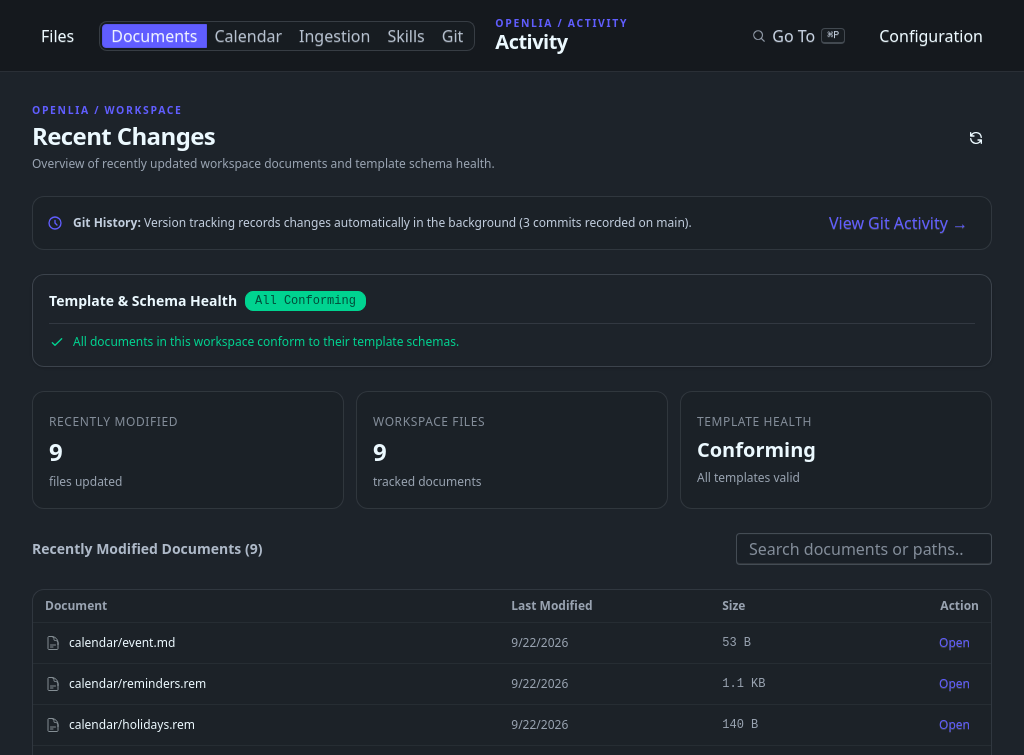
Test case: workspace application › renders the file changes Activity section on initial page and allows opening files
The image size is (1024, 755).
expect the heading "Recent Changes" is shown: met, box [32,120,215,152]
expect the text "Recently Modified Documents (9)" is shown: met, box [32,540,262,560]
Click the button "Open" in the row of "calendar/event.md" at (955, 644), box [930,632,979,656]
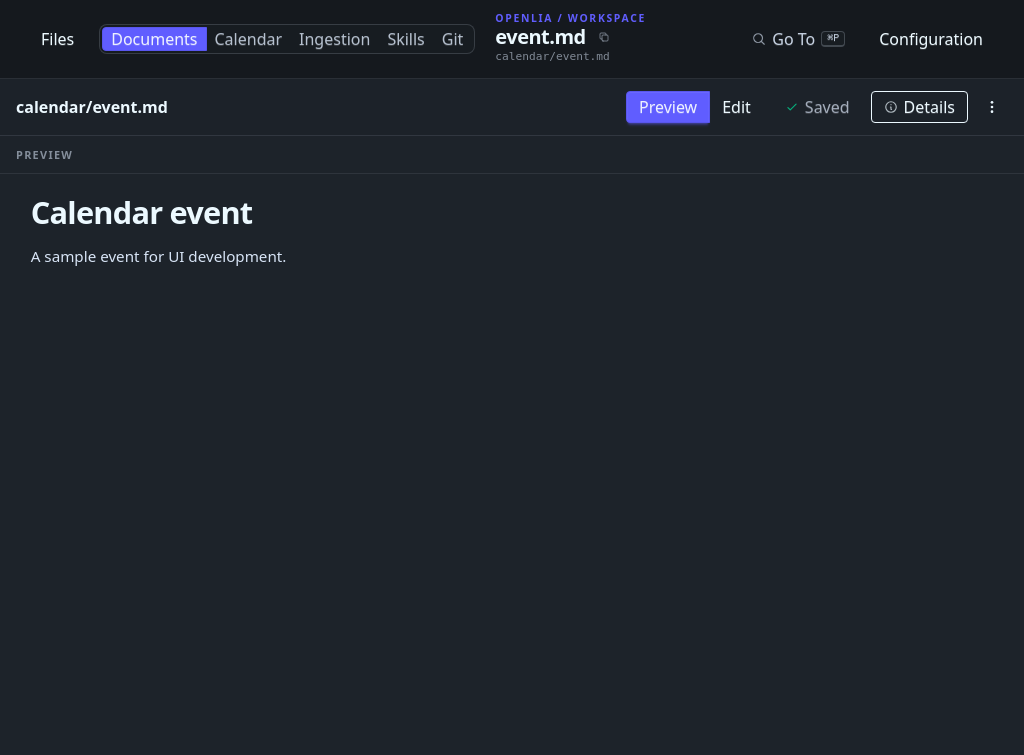
expect the element named "Markdown preview" is shown: met, box [31,191,286,266]
Click the button "Documents" at (154, 39), box [102,27,207,51]
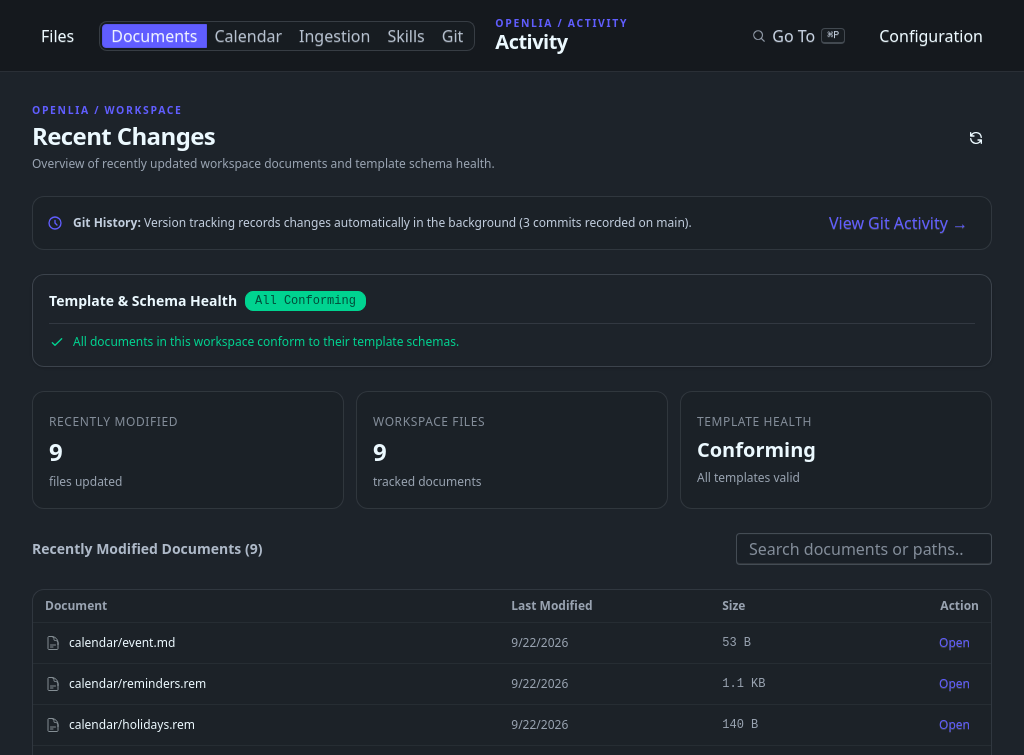
expect the heading "Recent Changes" is shown: met, box [32,120,215,152]
expect the buttons read "Documents", "Calendar", "Ingestion", "Skills", "Git", in this order: met
Click the button "Skills" at (406, 36), box [378,24,434,48]
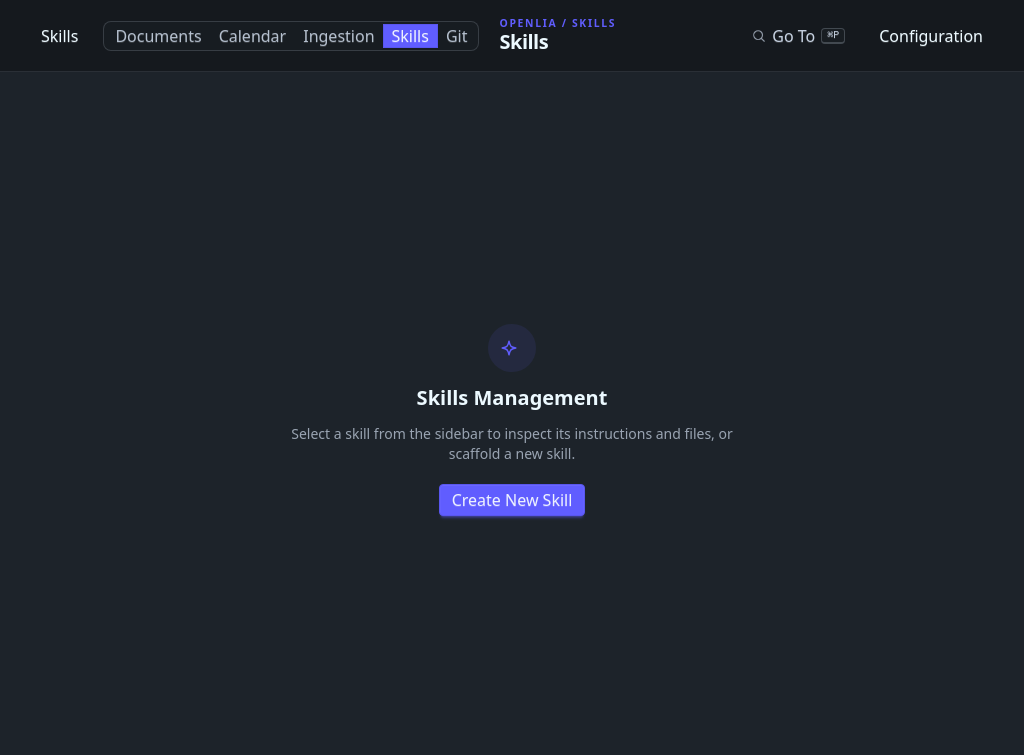
Click the button "Documents" at (159, 36), box [106,24,211,48]
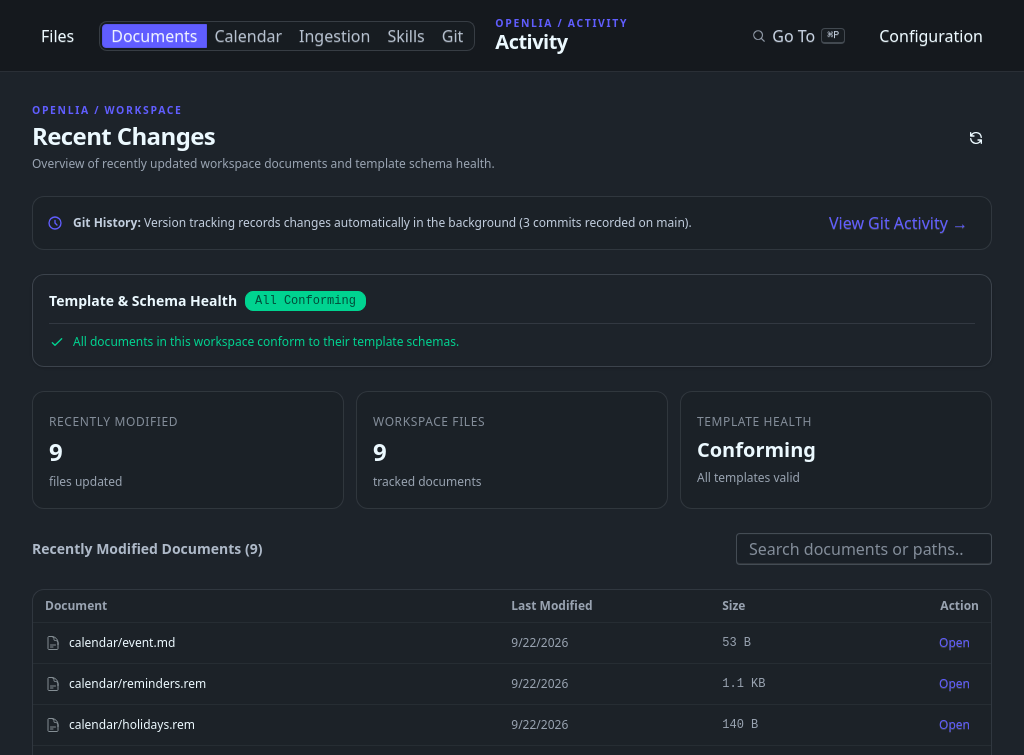
expect the heading "Recent Changes" is shown: met, box [32,120,215,152]
Click the button "Configuration" at (931, 36), box [866,20,996,52]
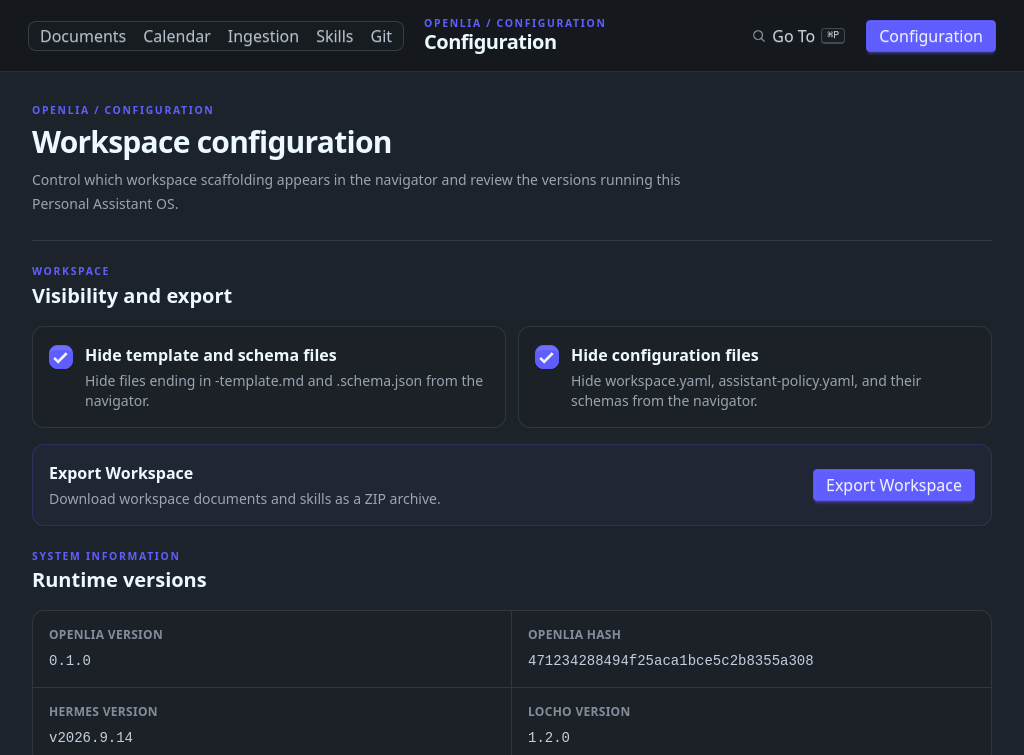
Click the button "Documents" at (83, 36), box [31,24,135,48]
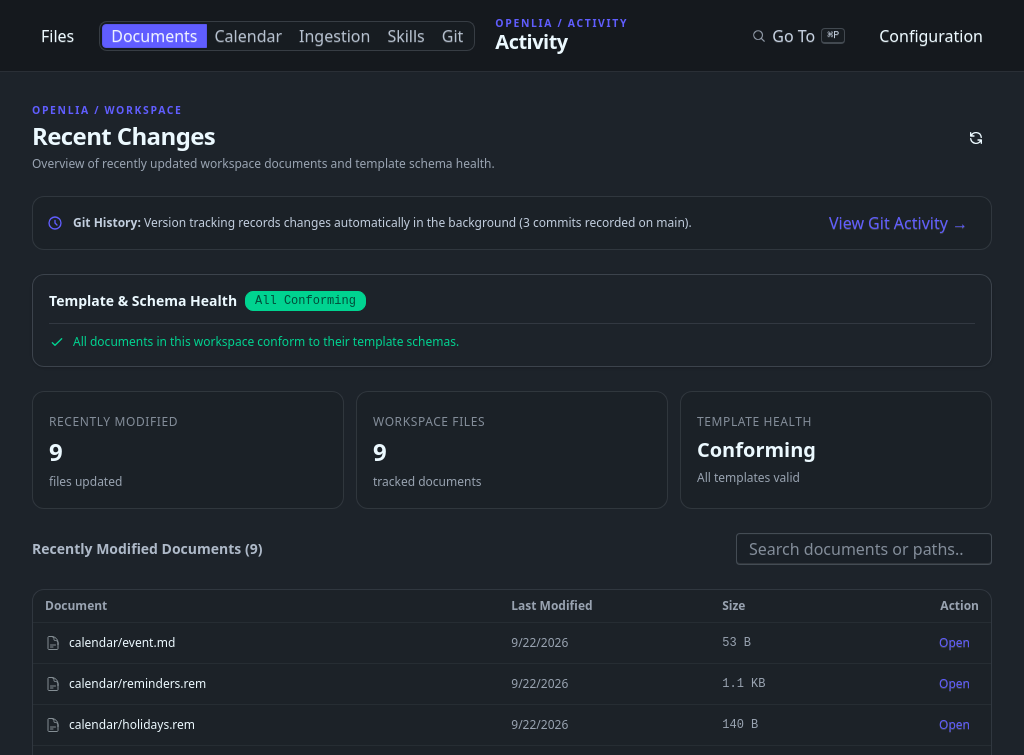
expect the heading "Recent Changes" is shown: met, box [32,120,215,152]
